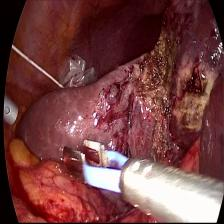Bipolar: (57, 130, 153, 224)
Irrigator: (4, 86, 21, 135)
Specimen Bag: (51, 48, 109, 98)
